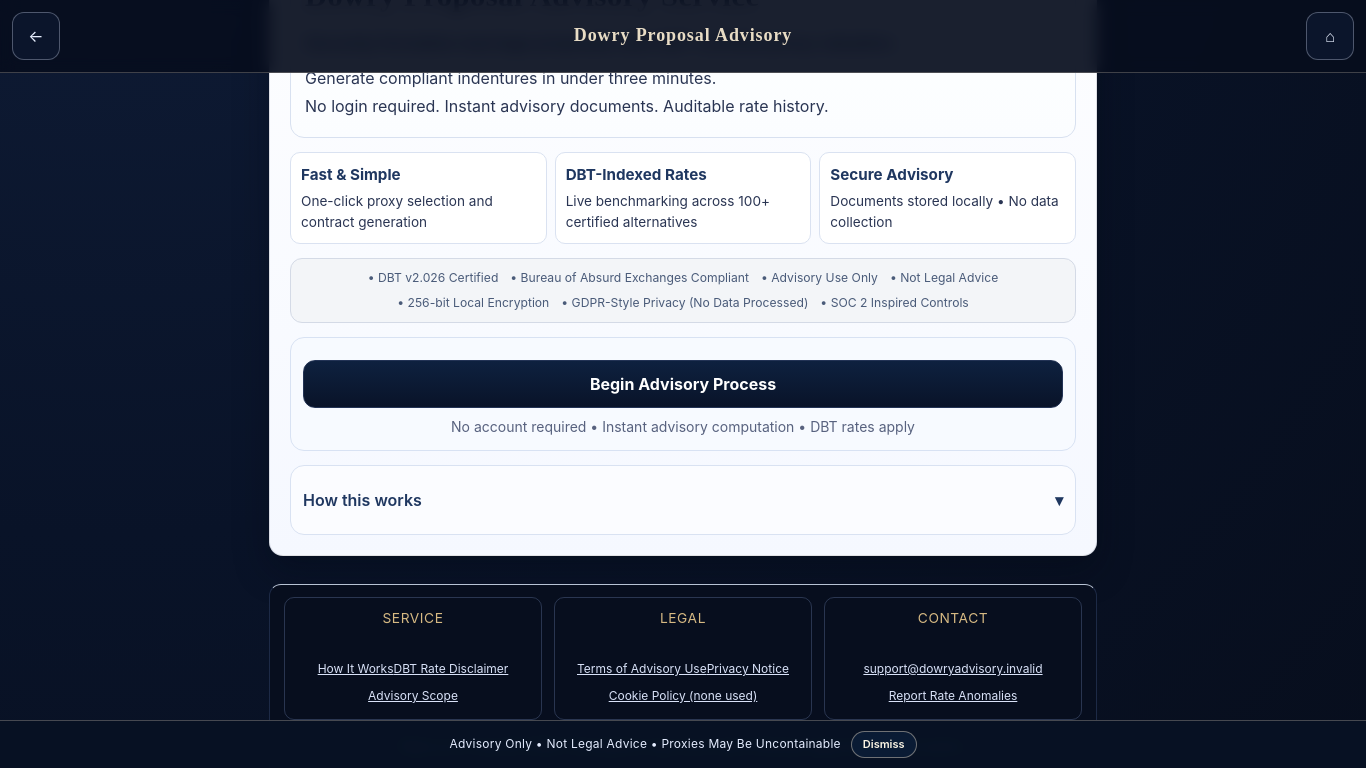
Accessibility smoke checks › announces validation errors rather than failing silently
(page scrolled)
Click the button "Begin Advisory Process": click(683, 384) [303, 360, 1063, 408]
(page scrolled)
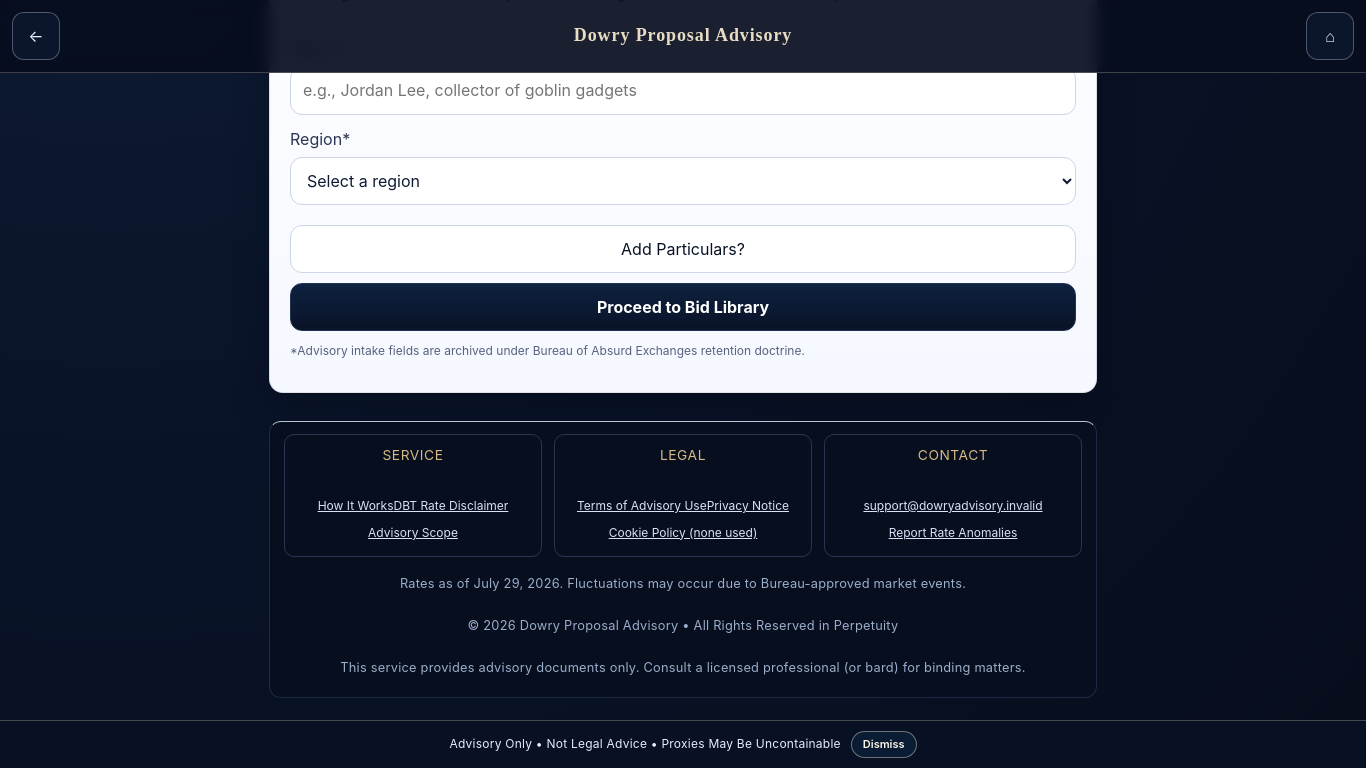
Click the button "Proceed to Bid Library": click(683, 307) [290, 283, 1076, 331]
(page scrolled)
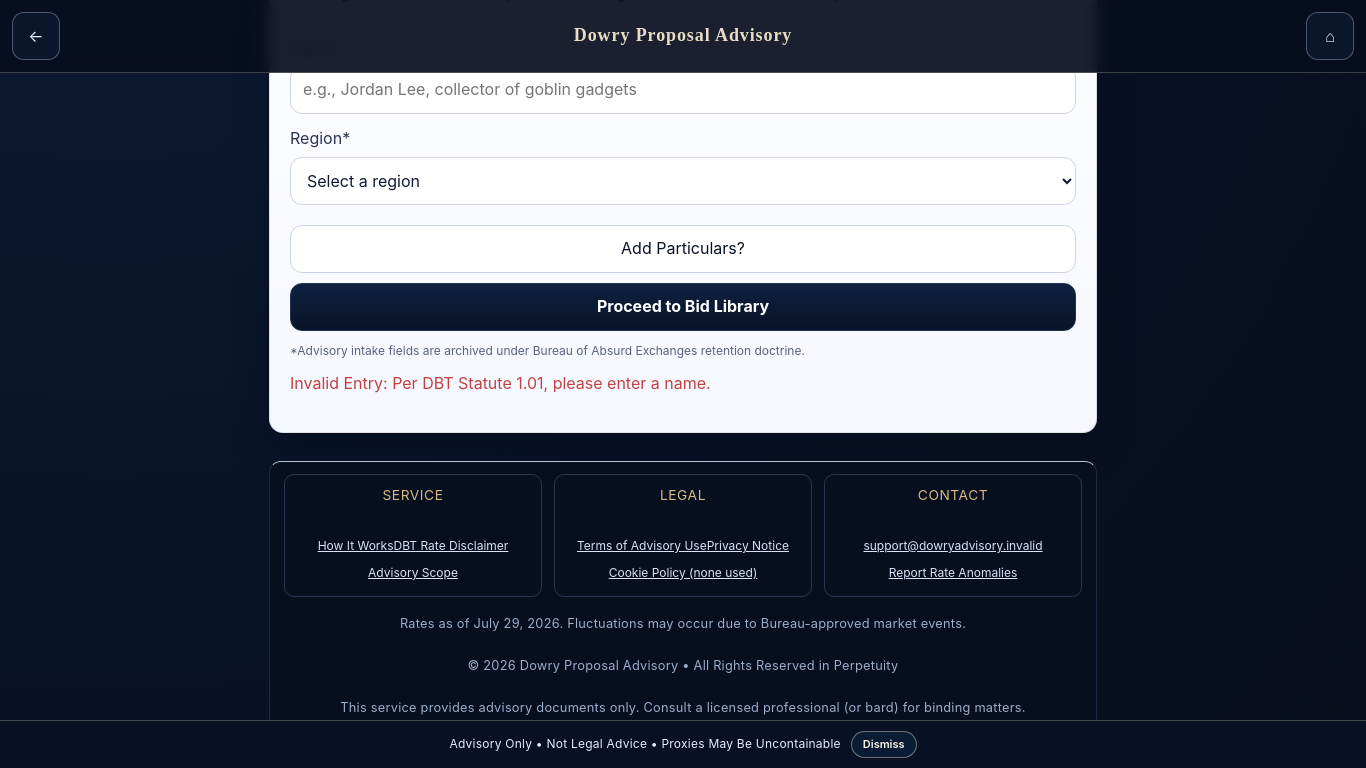
Now the text "Invalid Entry: Per DBT Statute 1.01, please enter a name." is shown, box [290, 374, 711, 394]
